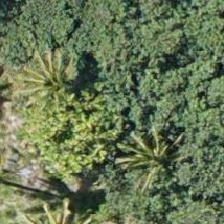coconut_tree: (12, 42, 102, 132)
